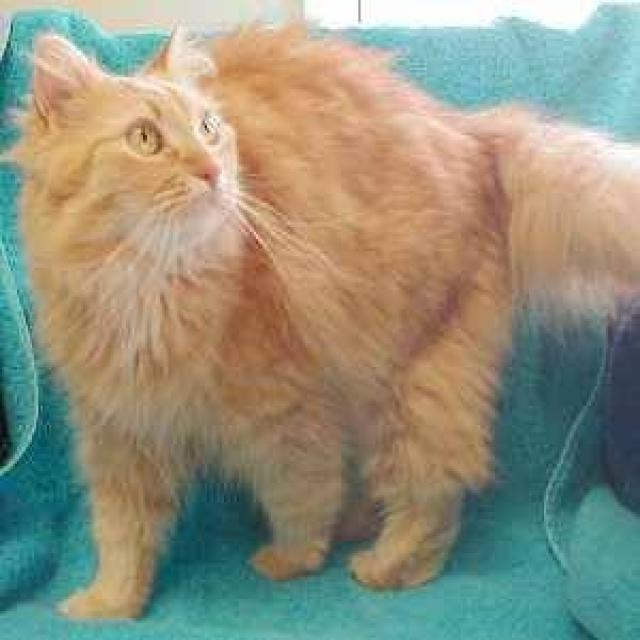cat: (6, 14, 638, 620)
